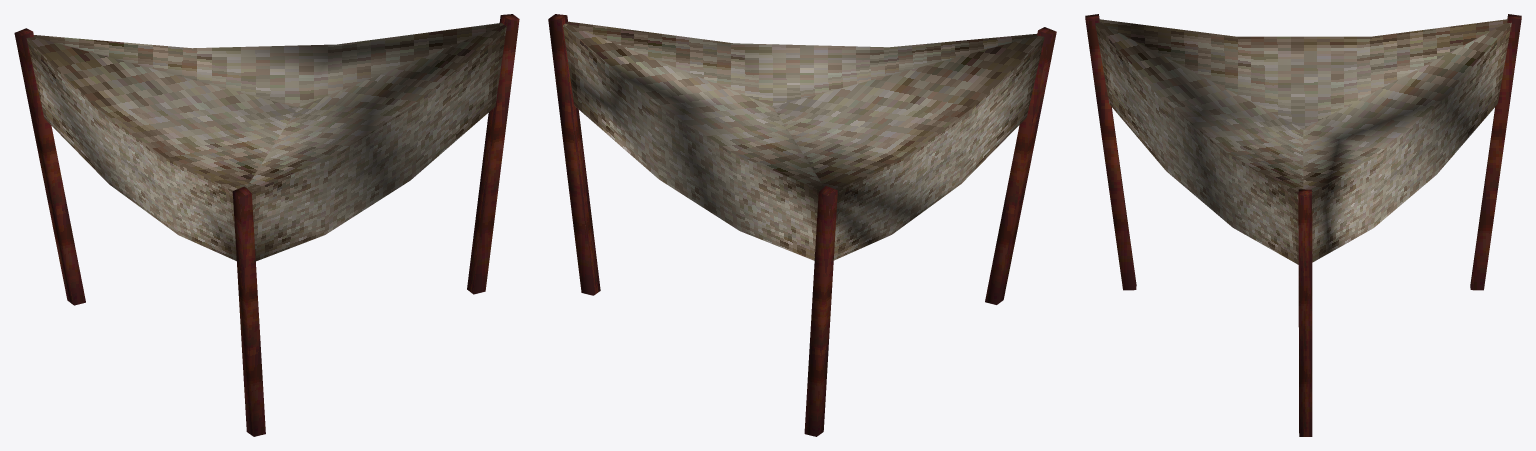
File: AKABANNER_ACTORDEF.fbx
The picture shows the model from 3 angles, left to right: view 1: azimuth 30°, elevation 25°; view 2: azimuth 150°, elevation 25°; view 3: azimuth 270°, elevation 25°; orthographic projection. The views are drawn at different scales.
Parts seen in each view (by area): view 1: U3DMesh; view 2: U3DMesh; view 3: U3DMesh.
Boxes of the visible parts, bbox=[...] form: U3DMesh: bbox=[14, 14, 519, 436]; U3DMesh: bbox=[548, 14, 1056, 436]; U3DMesh: bbox=[1085, 14, 1521, 436].
Size of the model in its own units: 10.82 by 7.06 by 10.83.
